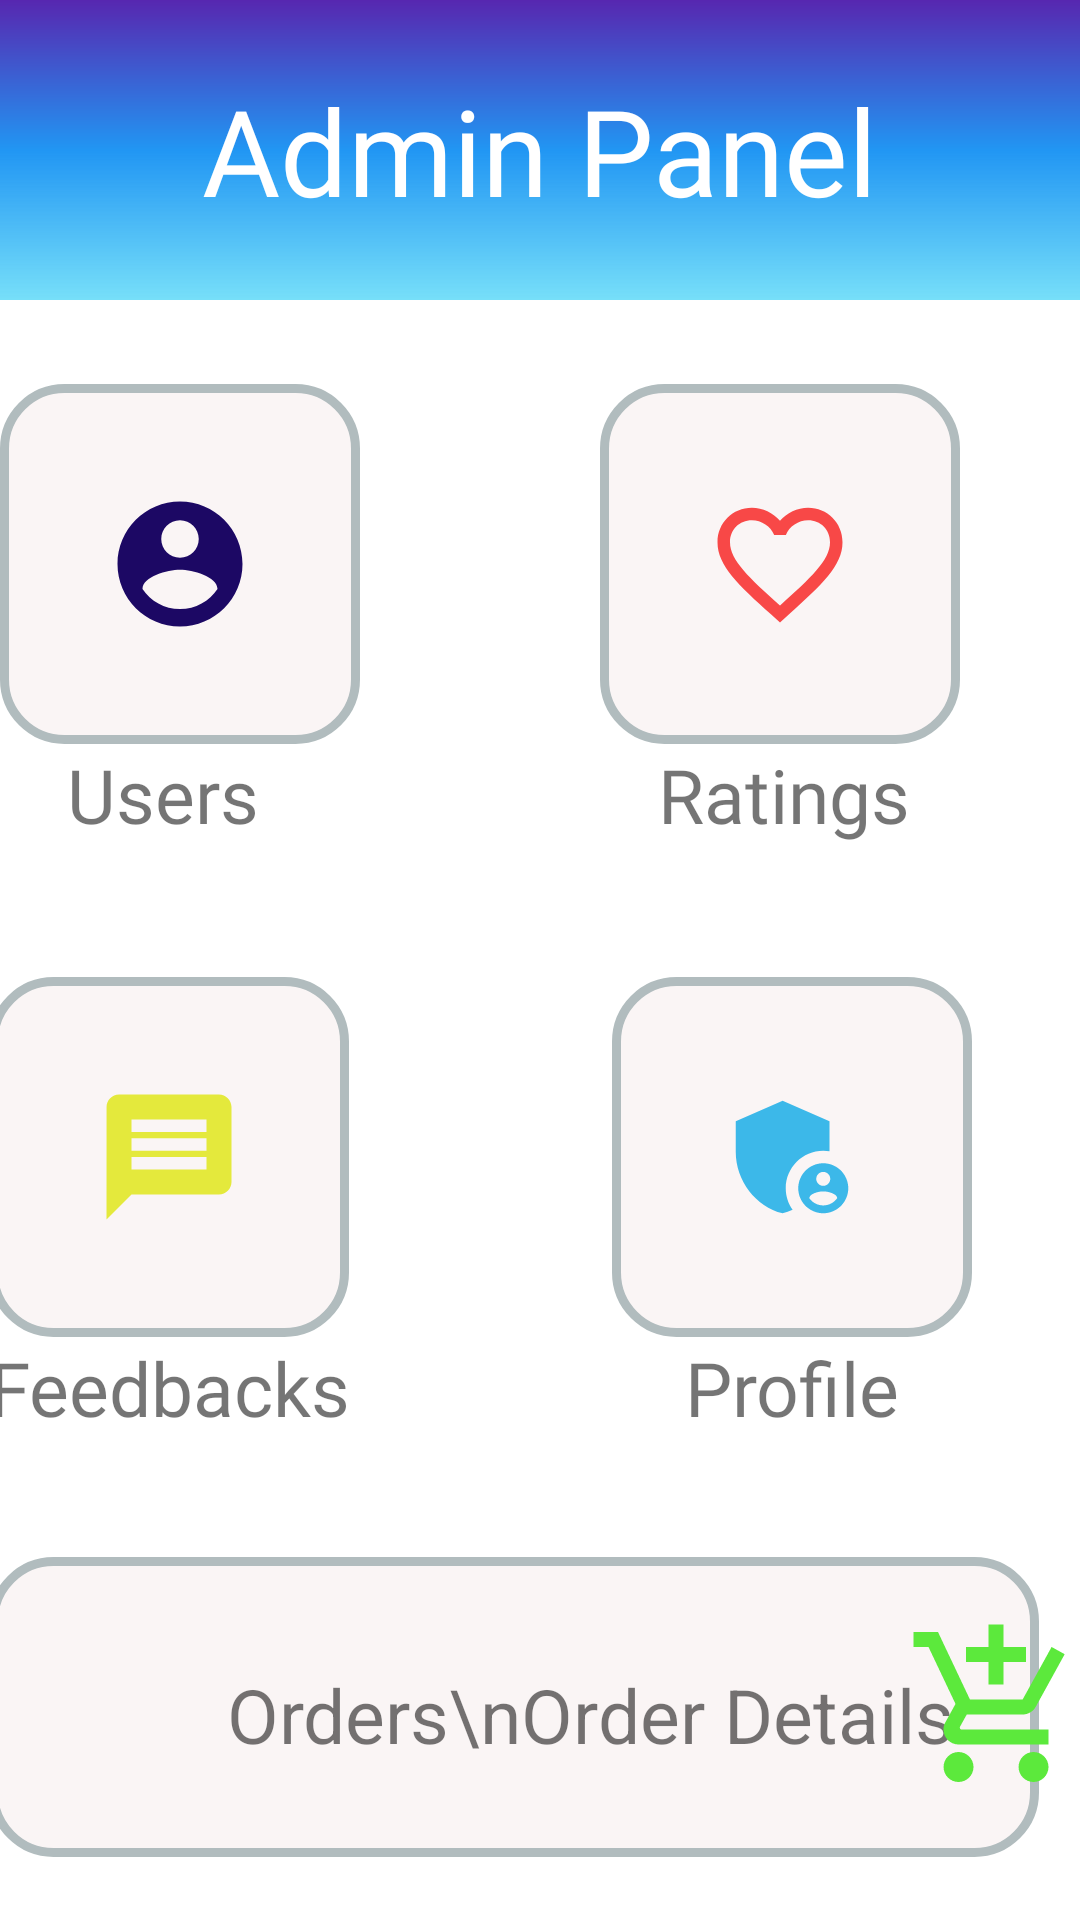

Where to tap for icons on this 1080×1920 app screen, as [x,y]:
account circle: [180,564]
admin panel settings: [792,1157]
favorite border: [780,564]
message: [174,1157]
